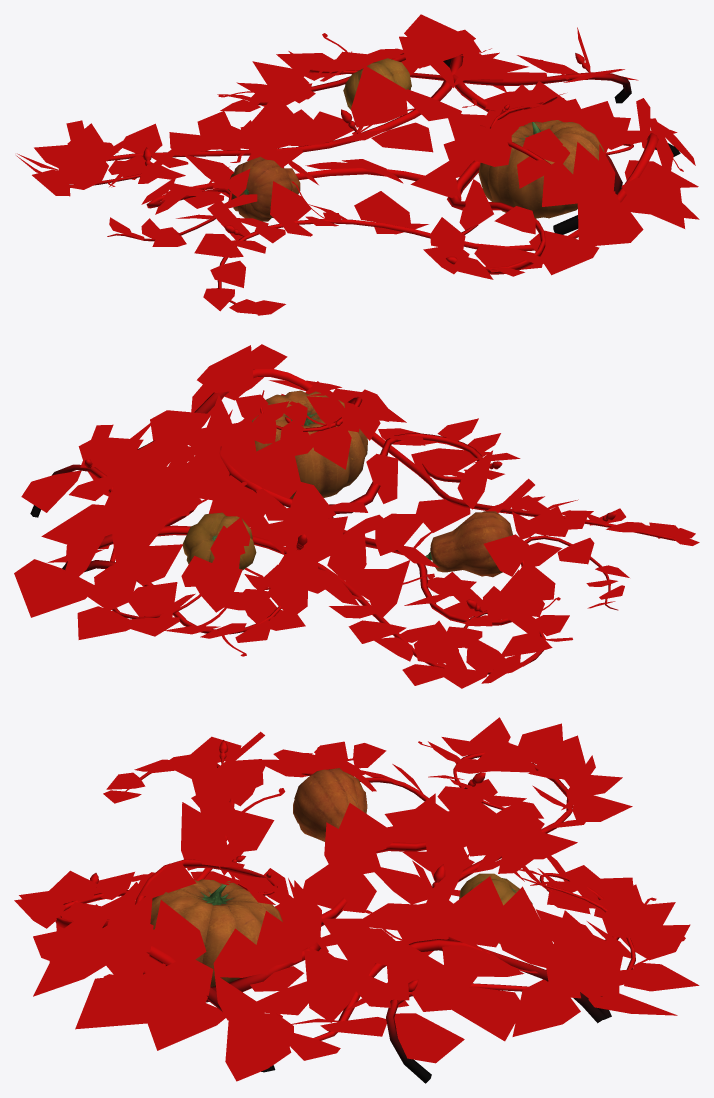
Rendered from SM_Farm_PumpkinGrown_01.fbx.
3 renders of one model, top to bottom at view 1: azimuth 30°, elevation 25°; view 2: azimuth 150°, elevation 25°; view 3: azimuth 270°, elevation 25°, orthographic. The views are drawn at different scales.
Visible parts, largest first — view 1: SM_Farm_PumpkinGrown_01_LOD0; view 2: SM_Farm_PumpkinGrown_01_LOD0; view 3: SM_Farm_PumpkinGrown_01_LOD0.
Part boxes in pixels (x1,y1,x2,y2): SM_Farm_PumpkinGrown_01_LOD0: [16, 14, 699, 315]; SM_Farm_PumpkinGrown_01_LOD0: [14, 344, 699, 688]; SM_Farm_PumpkinGrown_01_LOD0: [14, 717, 699, 1083].
Bounding box in the file's own units: 235 × 44.93 × 211.
